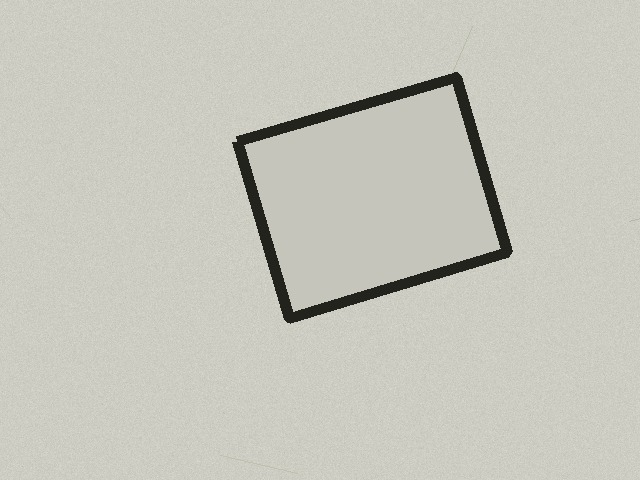parking_area: (237, 77, 507, 318)
